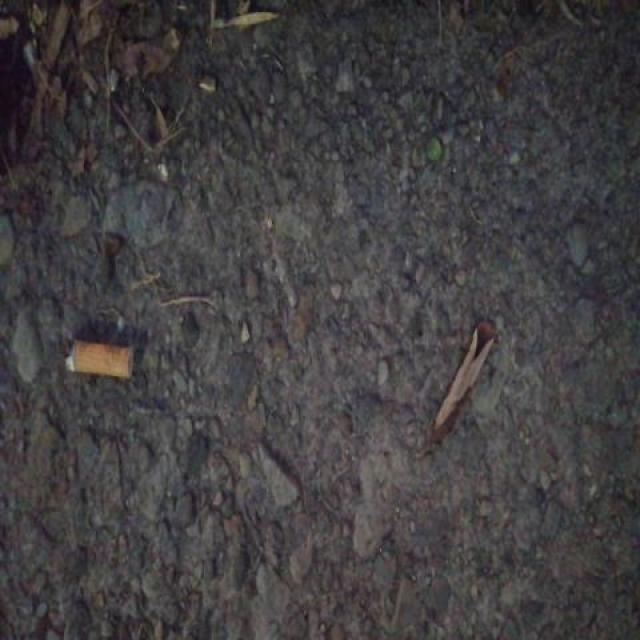non-organic waste: (60, 332, 137, 380)
